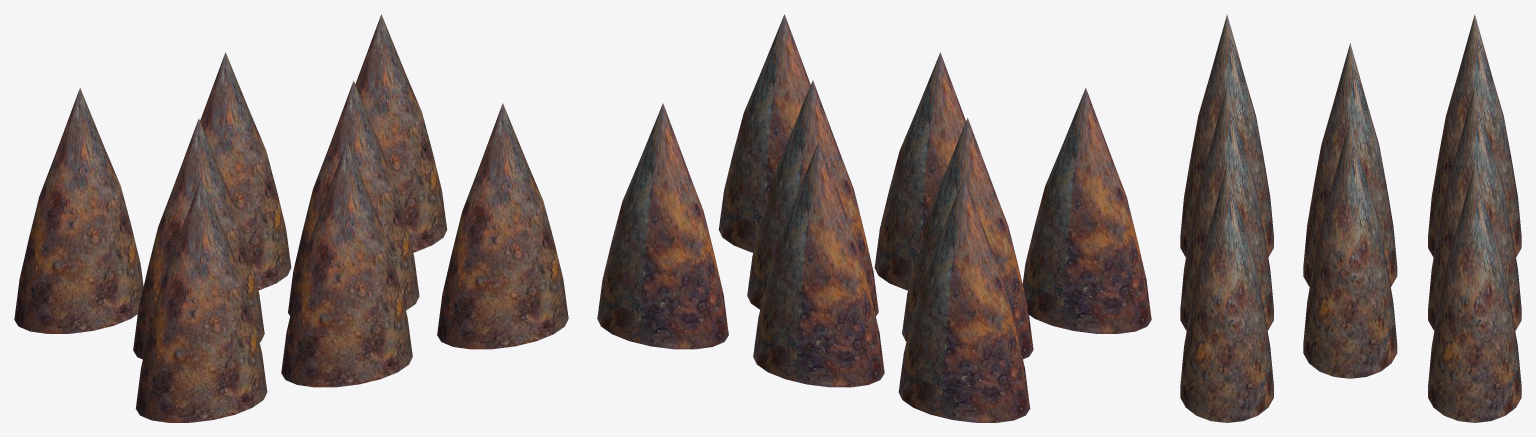
Rendered from pinchos.obj.
The picture shows the model from 3 angles, left to right: view 1: azimuth 30°, elevation 25°; view 2: azimuth 150°, elevation 25°; view 3: azimuth 270°, elevation 25°; orthographic projection.
Parts seen in each view (by area): view 1: Cylinder009, Cylinder007, Cylinder008, Cylinder003, Cylinder001, Cylinder002, Cylinder006, Cylinder005; view 2: Cylinder001, Cylinder002, Cylinder003, Cylinder008, Cylinder009, Cylinder007, Cylinder006, Cylinder005; view 3: Cylinder006, Cylinder009, Cylinder001, Cylinder002, Cylinder007, Cylinder005, Cylinder003, Cylinder008.
Boxes of the visible parts, box(x1,y1,x2,y2) form: Cylinder009: box(437, 103, 568, 349); Cylinder007: box(281, 141, 412, 387); Cylinder008: box(135, 177, 267, 422); Cylinder003: box(14, 88, 143, 333); Cylinder001: box(355, 14, 447, 252); Cylinder002: box(200, 52, 291, 290); Cylinder006: box(288, 81, 419, 315); Cylinder005: box(133, 118, 264, 359); Cylinder001: box(597, 103, 728, 349); Cylinder002: box(753, 141, 884, 387); Cylinder003: box(898, 177, 1030, 422); Cylinder008: box(1022, 88, 1151, 333); Cylinder009: box(718, 14, 810, 252); Cylinder007: box(874, 52, 965, 290); Cylinder006: box(747, 80, 878, 316); Cylinder005: box(902, 118, 1033, 359); Cylinder006: box(1303, 120, 1397, 378); Cylinder009: box(1180, 164, 1273, 422); Cylinder001: box(1428, 164, 1521, 422); Cylinder002: box(1428, 86, 1521, 330); Cylinder007: box(1180, 86, 1273, 330); Cylinder005: box(1303, 43, 1397, 286); Cylinder003: box(1428, 14, 1521, 257); Cylinder008: box(1180, 14, 1273, 257).
Bounding box in the file's own units: 35.68 × 18.01 × 24.39.
